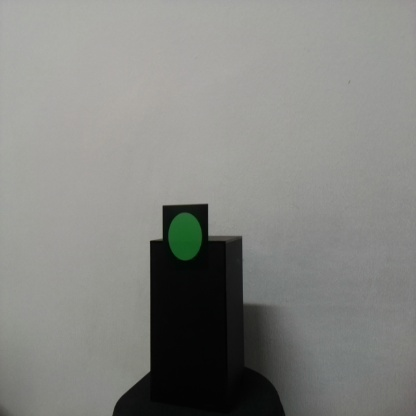id_5: (162, 205, 209, 274)
